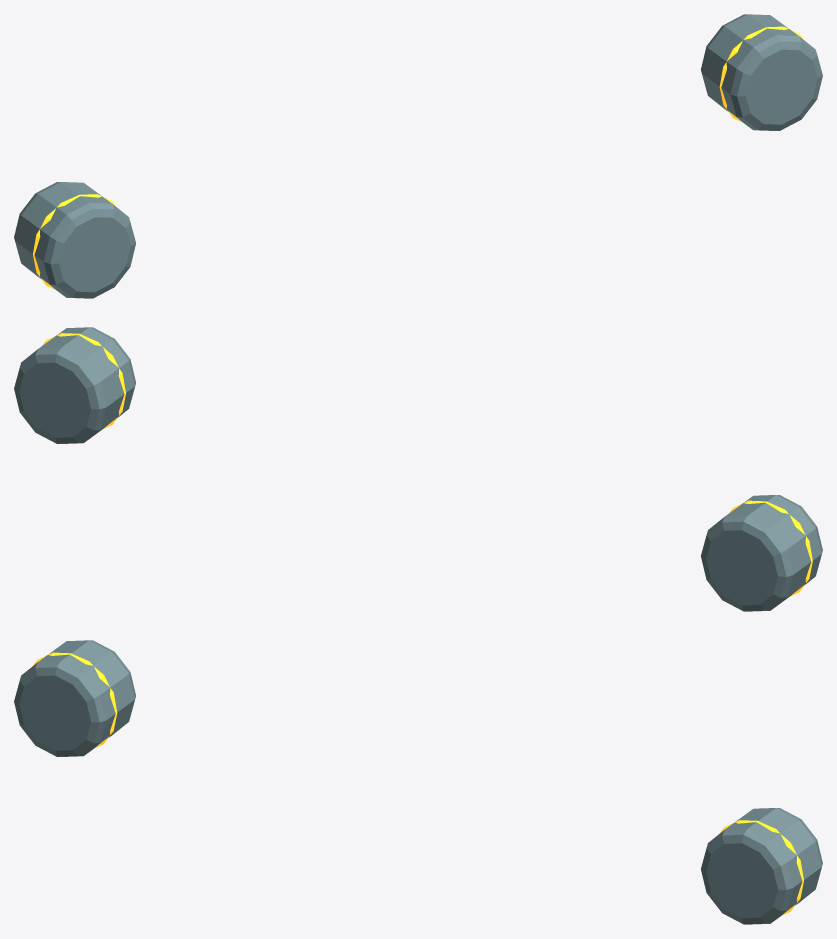
Rendered from Energy-Cable.glb.
The picture shows the model from 3 angles, top to bottom: view 1: azimuth 30°, elevation 25°; view 2: azimuth 150°, elevation 25°; view 3: azimuth 330°, elevation 25°; orthographic projection.
Visible parts, largest first — view 1: EnergyCable_Connector_0.9, EnergyCable_Connector_-0.9; view 2: EnergyCable_Connector_0.9, EnergyCable_Connector_-0.9; view 3: EnergyCable_Connector_0.9, EnergyCable_Connector_-0.9.
Part boxes in pixels (x1=…): EnergyCable_Connector_0.9: x1=701, y1=14, x2=822, y2=130; EnergyCable_Connector_-0.9: x1=14, y1=182, x2=135, y2=298; EnergyCable_Connector_0.9: x1=14, y1=327, x2=135, y2=443; EnergyCable_Connector_-0.9: x1=701, y1=495, x2=822, y2=611; EnergyCable_Connector_0.9: x1=701, y1=808, x2=822, y2=924; EnergyCable_Connector_-0.9: x1=14, y1=640, x2=135, y2=756.
Bounding box in the file's own units: 2.04 × 0.244 × 0.18.
